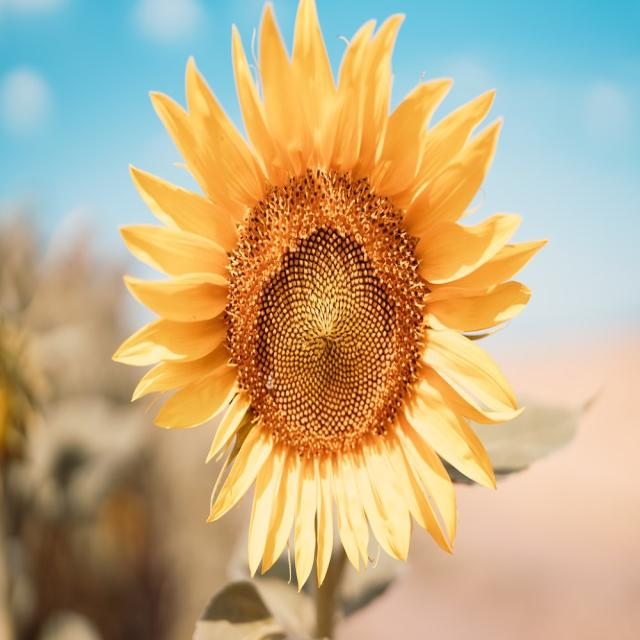sunflower: (102, 0, 552, 602)
